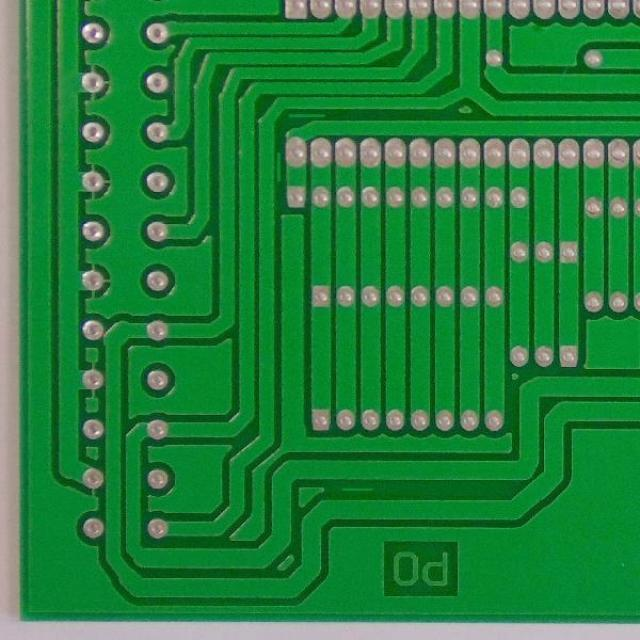Spurious_Cooper: (336, 484, 376, 496), (273, 148, 284, 188), (282, 111, 330, 120)
